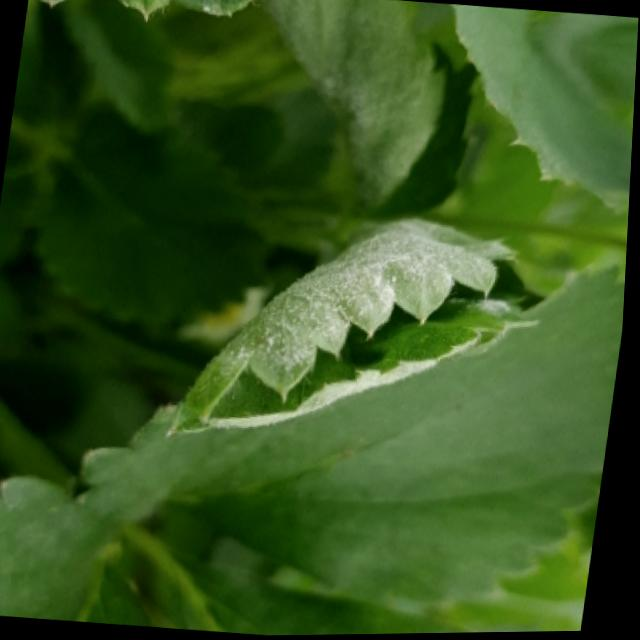Powdery Mildew Leaf: (167, 215, 546, 439)
